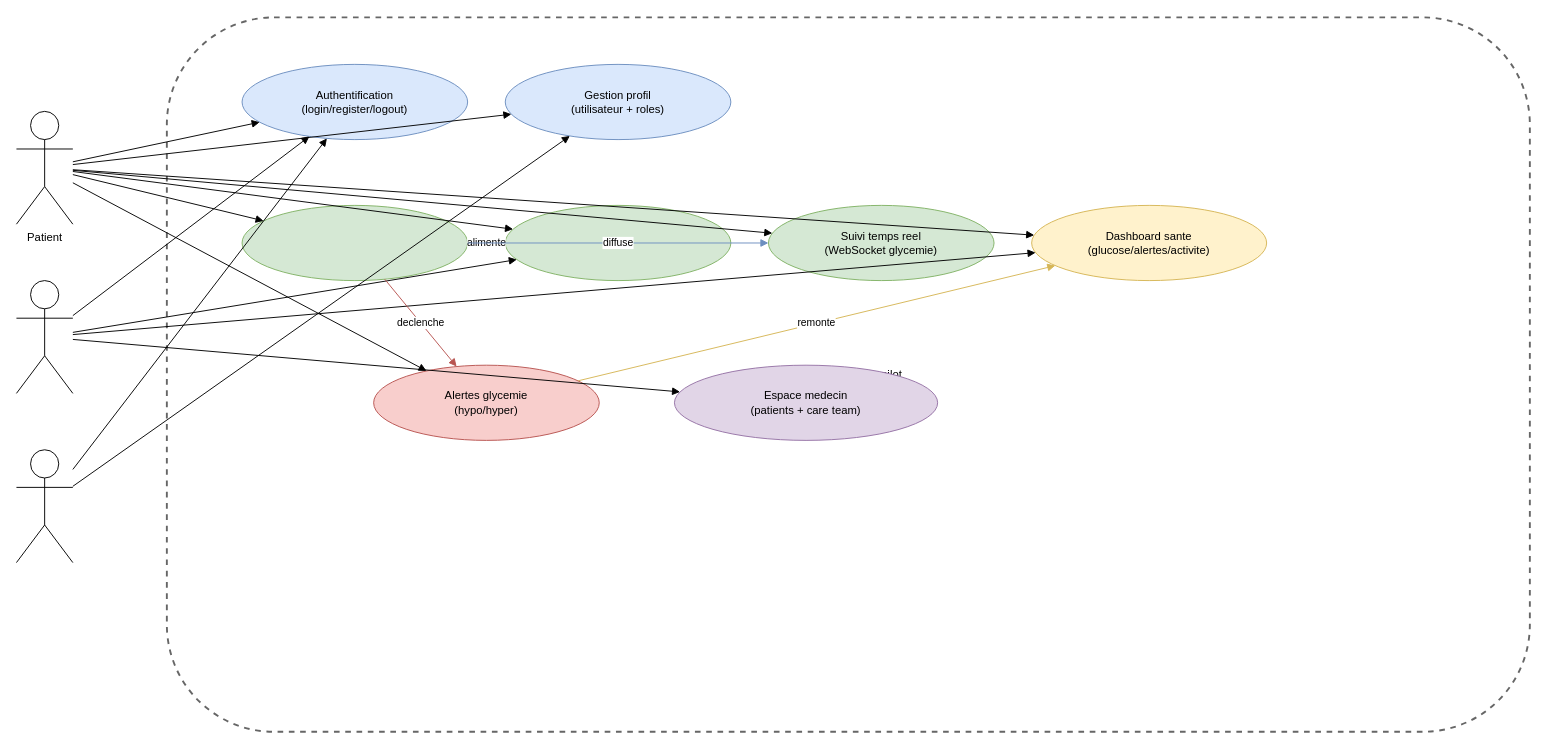
This 1547x748 diagram has some shape labels left out. Each missing label, with the centre of its shape:
Admin: point (44, 506)
Historique glycemie (jour/semaine/mois): point (617, 242)
Medecin: point (44, 336)
Saisie glycemie (manuel): point (354, 242)
